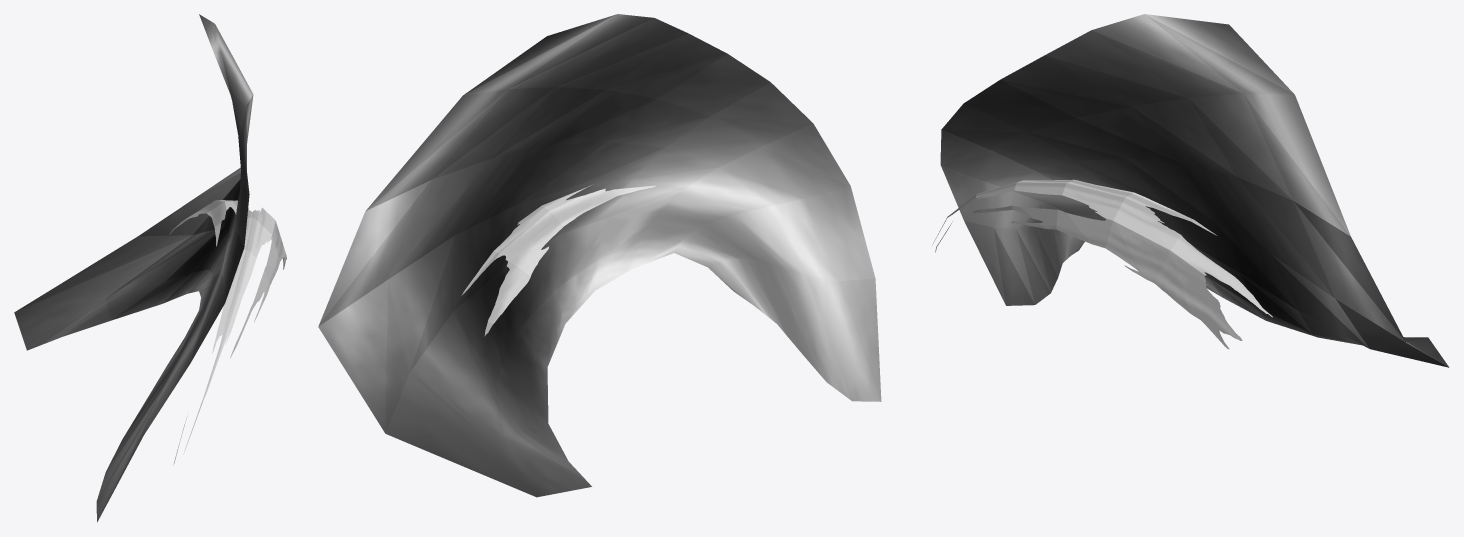
The model's file is 0041_Mikal@Spell1_Atk.fbx.
The picture shows the model from 3 angles, left to right: view 1: azimuth 30°, elevation 25°; view 2: azimuth 150°, elevation 25°; view 3: azimuth 270°, elevation 25°; orthographic projection. The views are drawn at different scales.
Parts seen in each view (by area): view 1: daoguang_bo_01, mesh_daoguang_01; view 2: daoguang_bo_01, mesh_daoguang_01; view 3: daoguang_bo_01, mesh_daoguang_01.
Part boxes in pixels (left/top/right/bottom): daoguang_bo_01: left=14, top=14, right=253, bottom=522; mesh_daoguang_01: left=169, top=200, right=286, bottom=465; daoguang_bo_01: left=318, top=14, right=881, bottom=497; mesh_daoguang_01: left=461, top=185, right=656, bottom=336; daoguang_bo_01: left=940, top=14, right=1449, bottom=367; mesh_daoguang_01: left=932, top=179, right=1272, bottom=349.
Bounding box in the file's own units: 5.97 × 7.36 × 7.72.
Materials: 2 (2 with a texture image).
